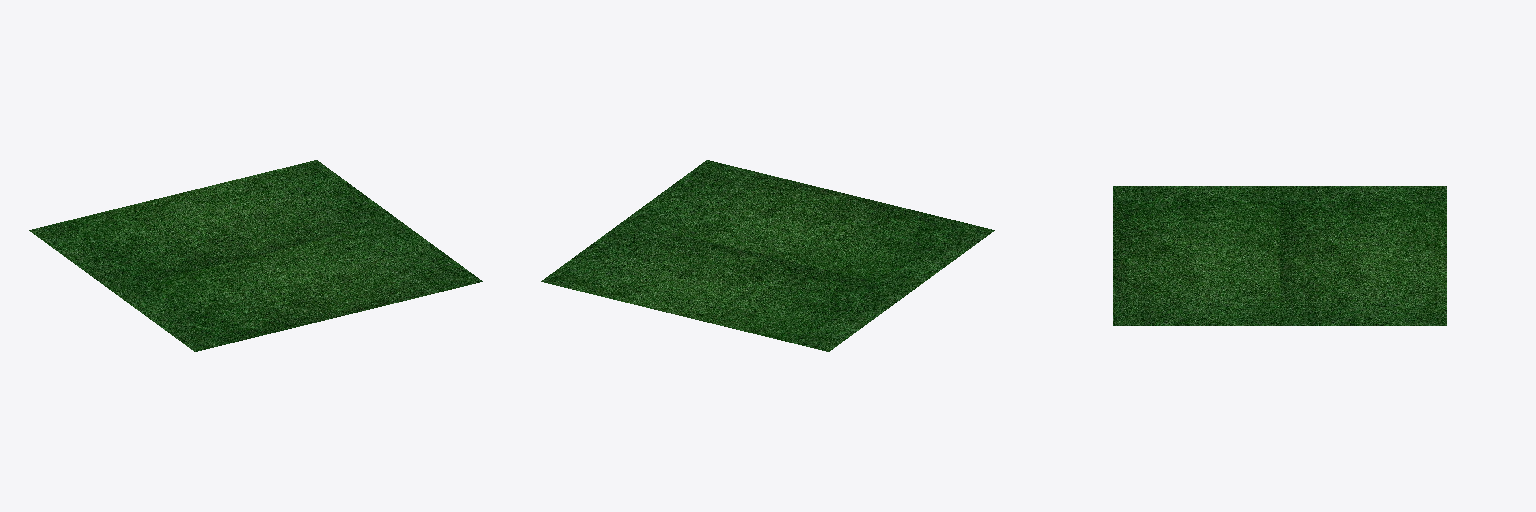
3 views of the same model, side by side, from view 1: azimuth 30°, elevation 25°; view 2: azimuth 150°, elevation 25°; view 3: azimuth 270°, elevation 25° (orthographic).
Parts seen in each view (by area): view 1: plano; view 2: plano; view 3: plano.
Boxes of the visible parts, <box> form: plano: <box>29,160,482,351</box>; plano: <box>541,160,994,351</box>; plano: <box>1113,186,1446,325</box>.
Bounding box in the file's own units: 100 × 0 × 100.
Materials: 1 (1 with a texture image).